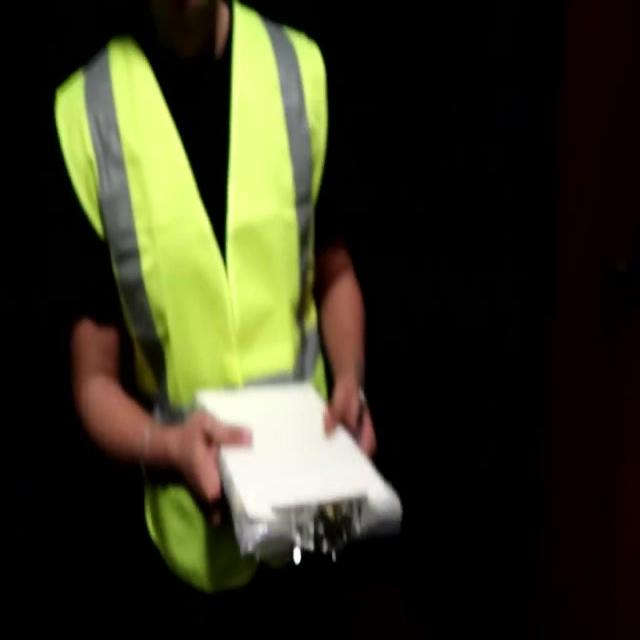Reflective-Jacket: (52, 8, 350, 570)
